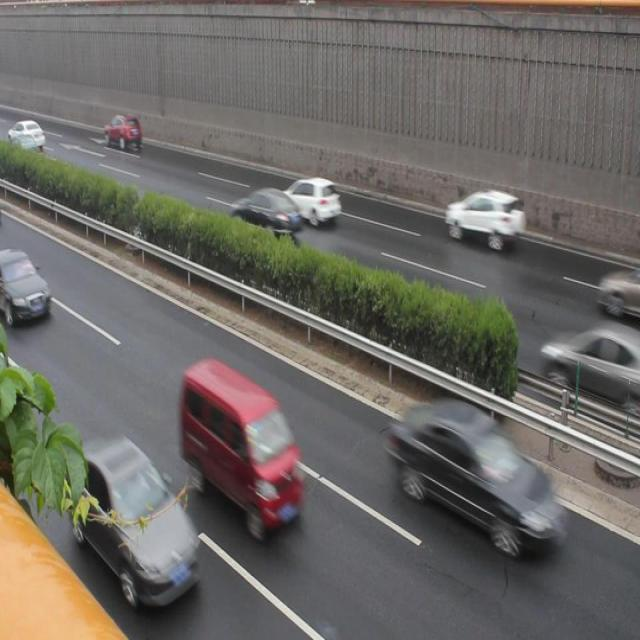car: (395, 395, 566, 560), (69, 434, 197, 599), (545, 320, 631, 410), (441, 190, 526, 253), (1, 247, 53, 325), (231, 185, 301, 240), (281, 176, 343, 227), (591, 263, 640, 311), (106, 111, 144, 153)
truck: (180, 358, 304, 532)
